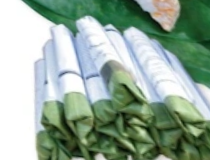bulathwita: (25, 11, 210, 160)
